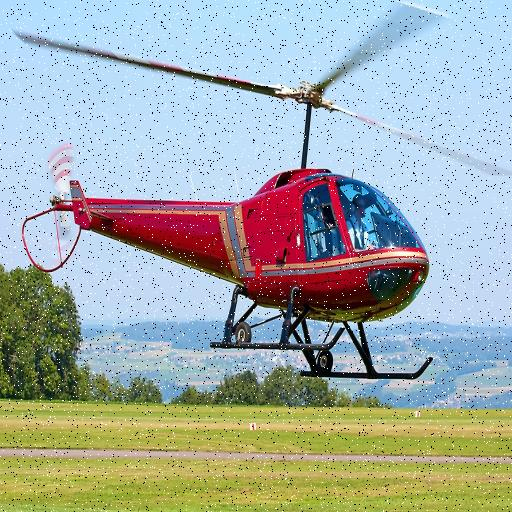helicopter: (15, 3, 509, 380)
